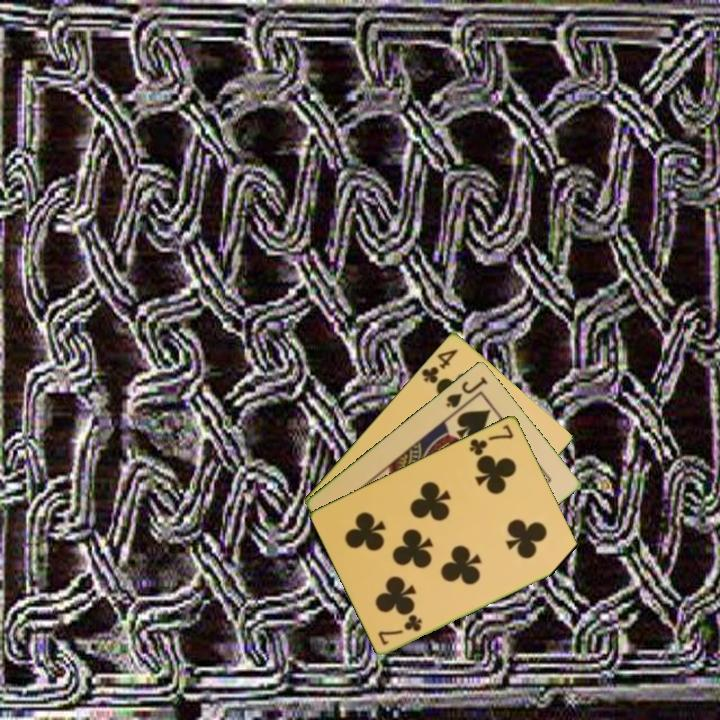4c: (418, 345, 461, 388)
7c: (466, 420, 516, 458), (375, 611, 425, 648)
Js: (442, 373, 491, 410)
